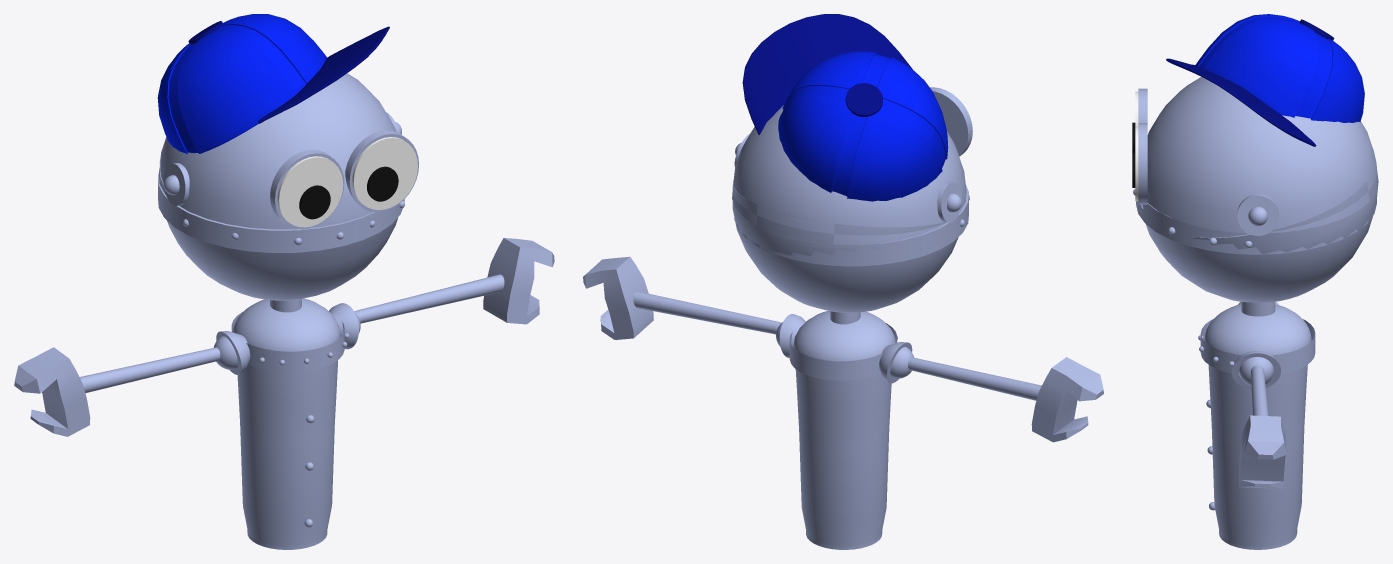
The picture shows the model from 3 angles, left to right: view 1: azimuth 30°, elevation 25°; view 2: azimuth 150°, elevation 25°; view 3: azimuth 270°, elevation 25°; orthographic projection. The views are drawn at different scales.
Visible parts, largest first — view 1: Junior Cap_21, Cylinder.010_4, Sphere_22, Sphere.001_23, Cylinder.006_18, Cube_6, Sphere.016_39, Cube.001_9, Cylinder.002_14, Cylinder.003_15, Cylinder.013_10, Cylinder.012_7 (+8 smaller); view 2: Junior Cap_21, Cylinder.010_4, Sphere_22, Sphere.001_23, Cube_6, Sphere.016_39, Cube.001_9, Cylinder.006_18, Cylinder.013_10, Cylinder.012_7, Cylinder.011_5, Cylinder_12 (+2 smaller); view 3: Sphere_22, Junior Cap_21, Sphere.001_23, Cylinder.010_4, Sphere.016_39, Cube.001_9, Cylinder.006_18, Cylinder.011_5, Cylinder.007_19, Cylinder.005_17, Cylinder.013_10, BezierCircle.000_1 (+4 smaller).
Part boxes in pixels (x1=…): Junior Cap_21: x1=157, y1=14, x2=389, y2=154; Cylinder.010_4: x1=237, y1=360, x2=337, y2=549; Sphere_22: x1=159, y1=73, x2=396, y2=229; Sphere.001_23: x1=159, y1=160, x2=397, y2=300; Cylinder.006_18: x1=158, y1=173, x2=404, y2=252; Cube_6: x1=14, y1=347, x2=90, y2=436; Sphere.016_39: x1=233, y1=298, x2=340, y2=351; Cube.001_9: x1=483, y1=238, x2=554, y2=324; Cylinder.002_14: x1=352, y1=137, x2=417, y2=209; Cylinder.003_15: x1=277, y1=156, x2=343, y2=227; Cylinder.013_10: x1=354, y1=274, x2=504, y2=323; Cylinder.012_7: x1=79, y1=347, x2=220, y2=393; Junior Cap_21: x1=742, y1=14, x2=948, y2=201; Cylinder.010_4: x1=795, y1=369, x2=891, y2=549; Sphere_22: x1=732, y1=105, x2=966, y2=244; Sphere.001_23: x1=732, y1=180, x2=958, y2=312; Cube_6: x1=1031, y1=357, x2=1103, y2=442; Sphere.016_39: x1=793, y1=311, x2=895, y2=361; Cube.001_9: x1=583, y1=256, x2=653, y2=339; Cylinder.006_18: x1=734, y1=184, x2=968, y2=266; Cylinder.013_10: x1=633, y1=291, x2=781, y2=334; Cylinder.012_7: x1=908, y1=357, x2=1041, y2=400; Cylinder.011_5: x1=789, y1=323, x2=897, y2=380; Cylinder_12: x1=930, y1=87, x2=972, y2=156; Sphere_22: x1=1147, y1=77, x2=1378, y2=232; Junior Cap_21: x1=1166, y1=14, x2=1364, y2=146; Sphere.001_23: x1=1146, y1=158, x2=1378, y2=302; Cylinder.010_4: x1=1208, y1=364, x2=1307, y2=549; Sphere.016_39: x1=1204, y1=304, x2=1311, y2=355; Cube.001_9: x1=1239, y1=415, x2=1286, y2=488; Cylinder.006_18: x1=1136, y1=200, x2=1376, y2=254; Cylinder.011_5: x1=1200, y1=319, x2=1315, y2=373; Cylinder.007_19: x1=1237, y1=194, x2=1278, y2=235; Cylinder.005_17: x1=1138, y1=123, x2=1147, y2=204; Cylinder.013_10: x1=1250, y1=365, x2=1268, y2=415; BezierCircle.000_1: x1=1232, y1=351, x2=1280, y2=389.
Bounding box in the file's own units: 5.02 × 4.62 × 2.04.
